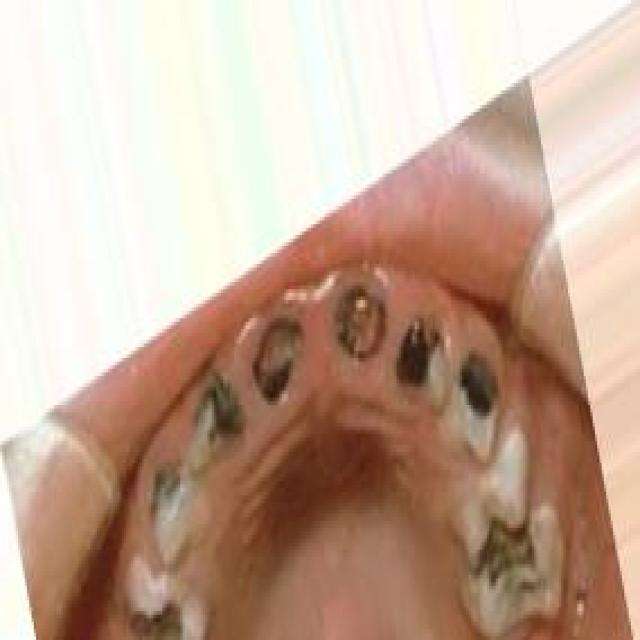caries: (465, 488, 544, 598), (244, 306, 310, 417), (388, 302, 450, 414), (324, 275, 392, 377), (188, 370, 252, 475), (141, 452, 200, 564), (448, 332, 497, 448), (129, 580, 199, 640)
